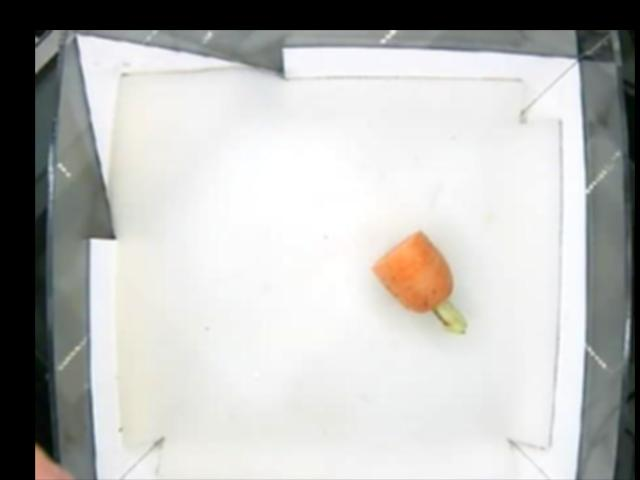Carrot: (376, 230, 469, 336)
